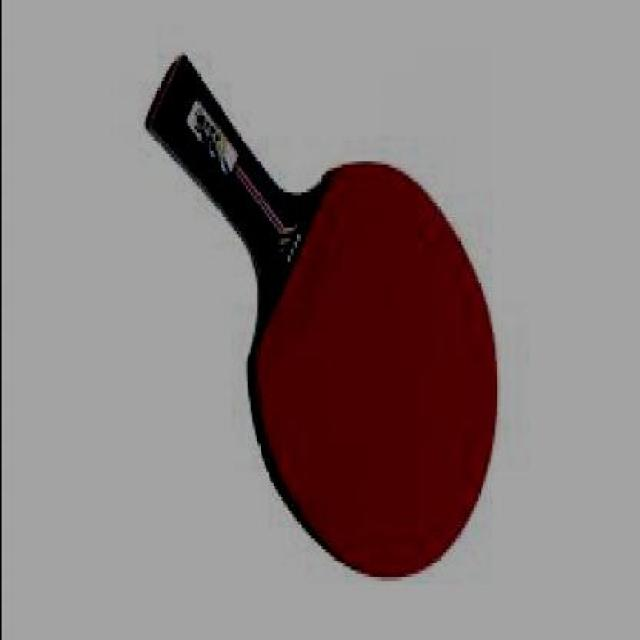table_tennis_racket: (247, 164, 502, 584)
